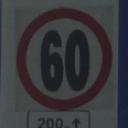speed_limit_60: (16, 7, 114, 110)
